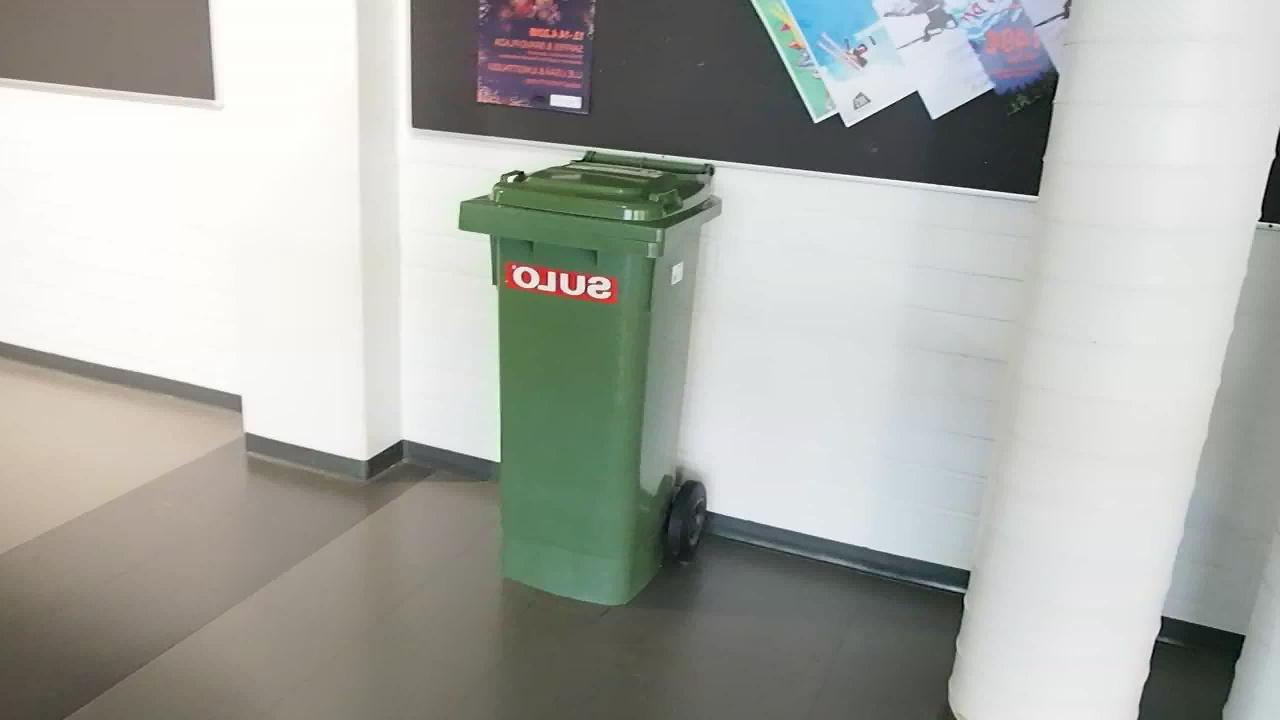trashbin: (460, 145, 718, 609)
